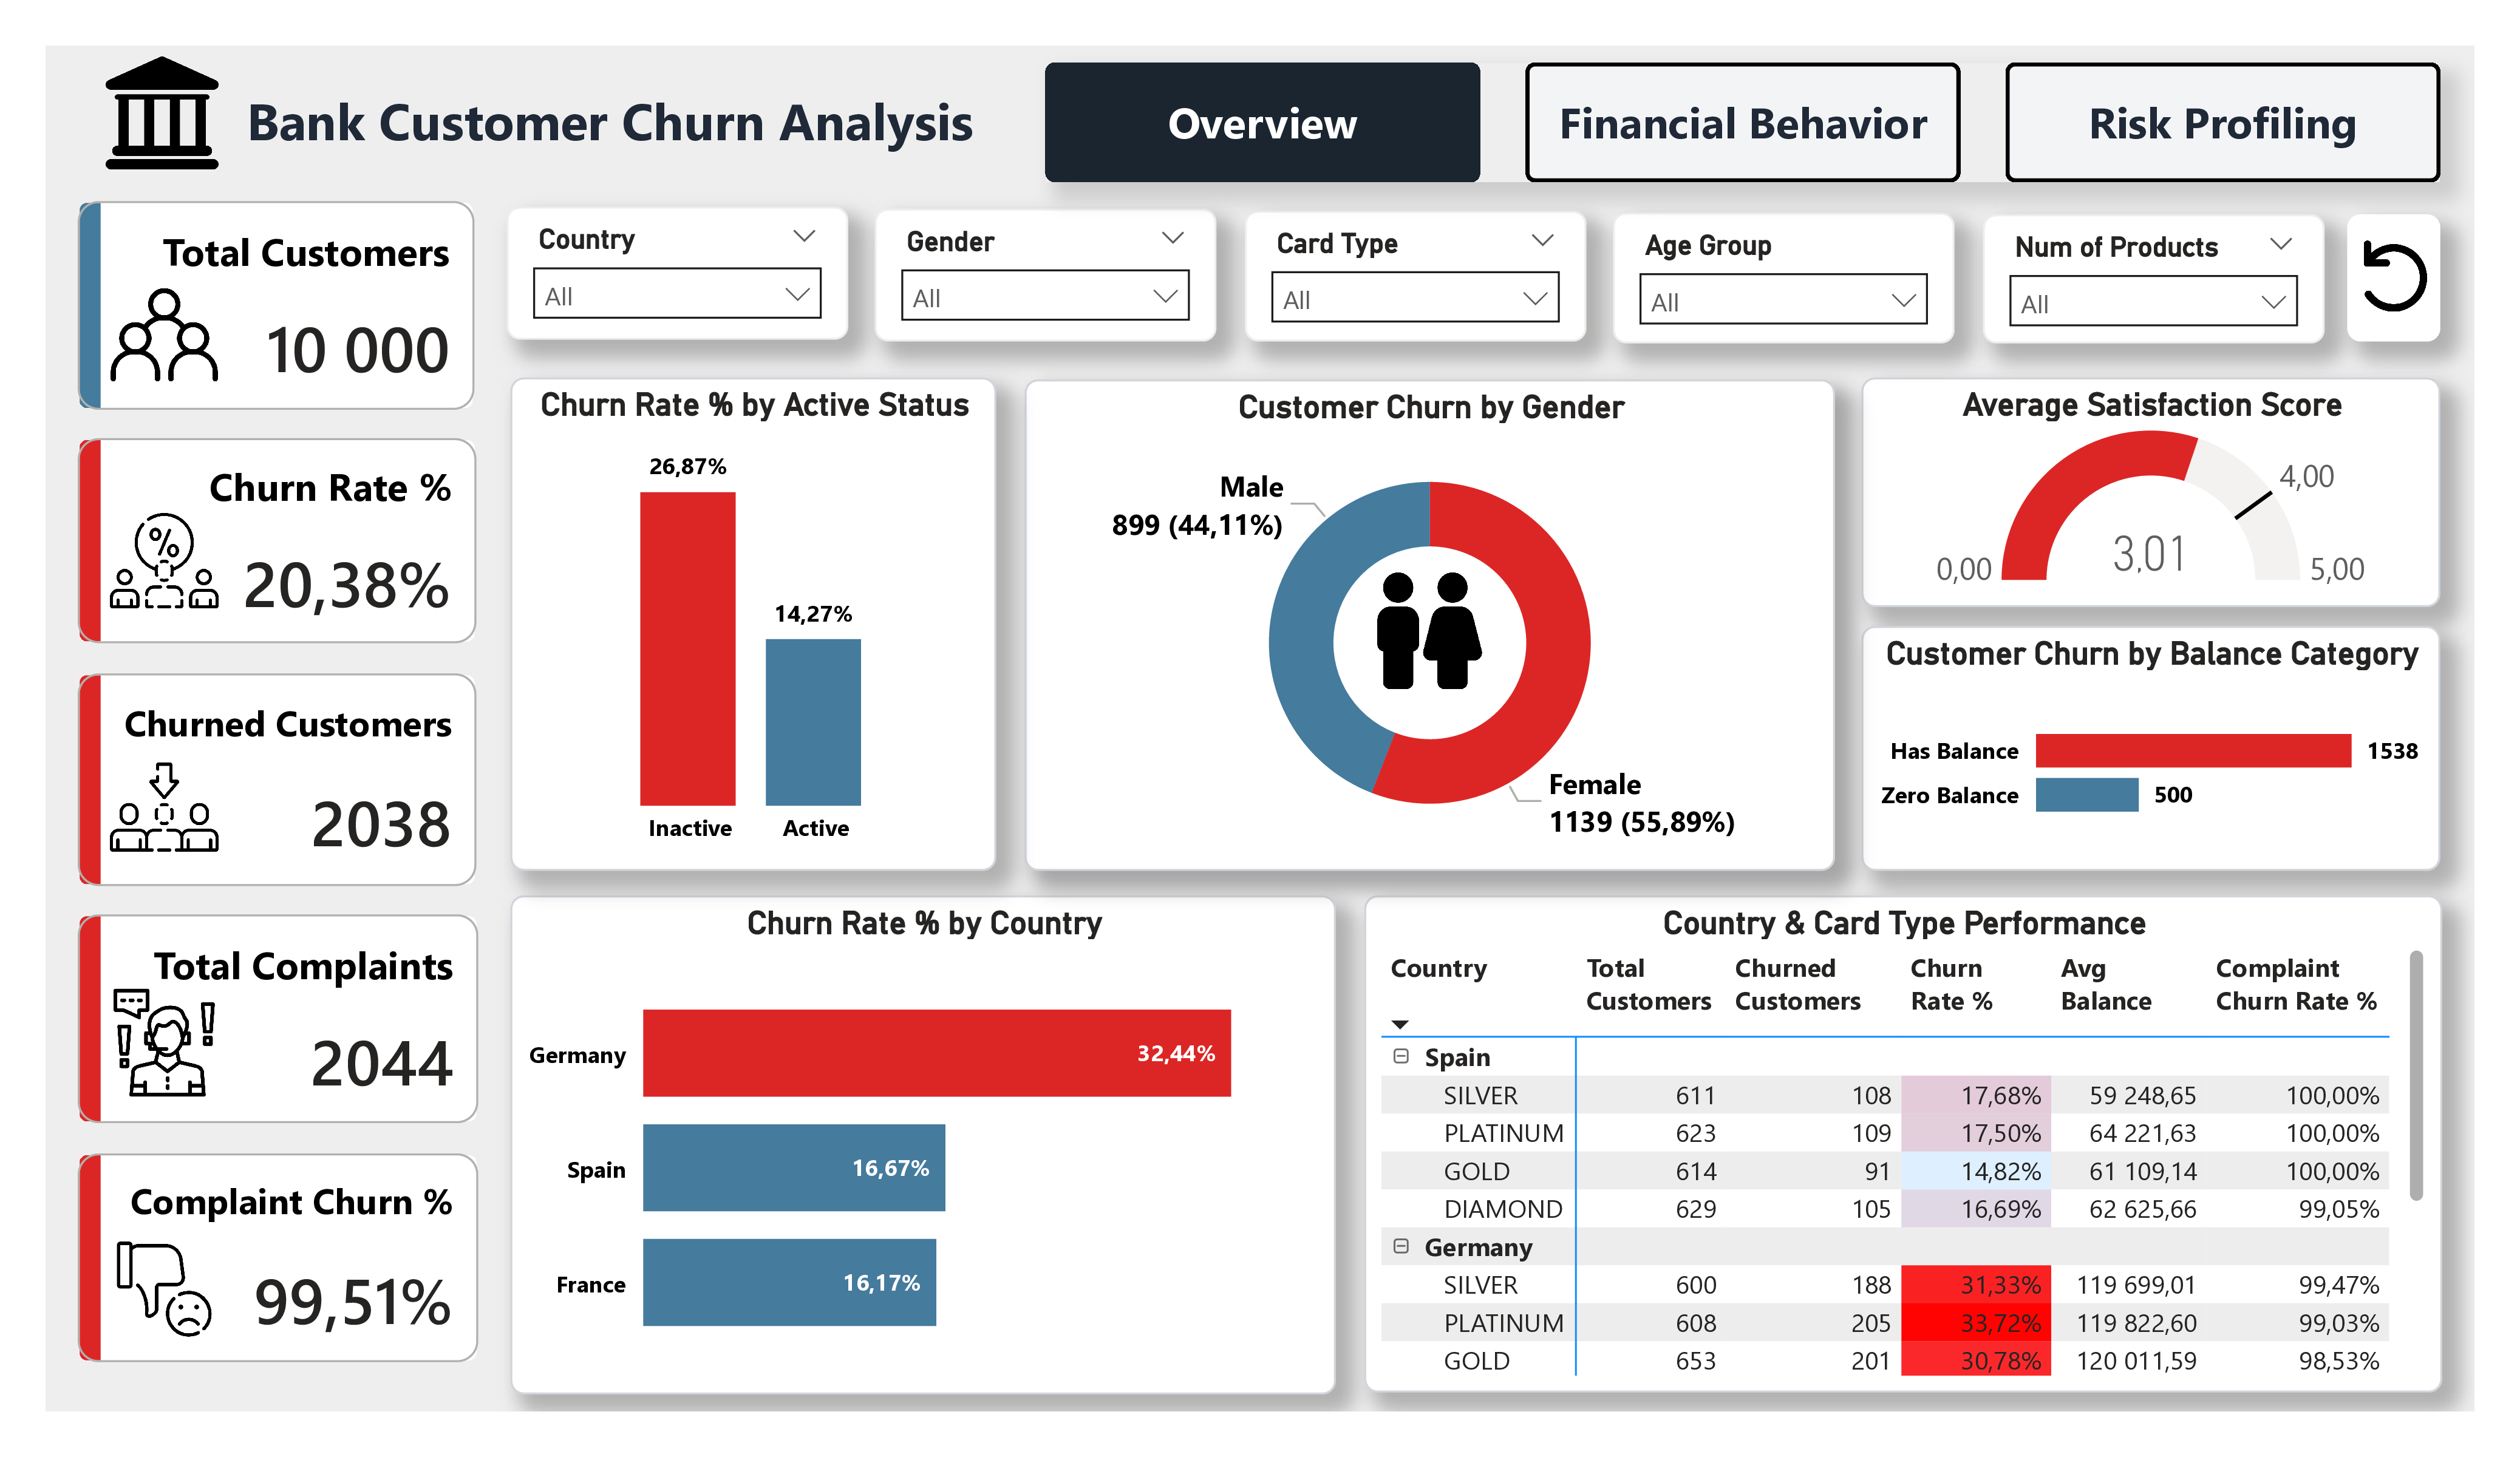

This screenshot's page, from the dashboard's own definition file:
{"tool":"powerbi","page":{"name":"Overview","canvas":[1280,720],"ordinal":0},"visuals":[{"type":"treemap","title":"Customer Churn by Balance Category","fields":{"Values":["Measures (2).Churned Customers"],"Group":["dim_customer.balance_category"]},"box":[263.7,169.8,486.2,260.5],"z":0},{"type":"clusteredBarChart","title":"Churn Rate by Country","fields":{"Category":["dim_geography.country"],"Y":["Measures (2).Churn Rate %"]},"box":[263.7,448.2,486.2,262.6],"z":1000},{"type":"pivotTable","title":"Country & Card Type Performance","fields":{"Rows":["dim_geography.country","dim_cardtype.card_type"],"Values":["Measures (2).Total Customers","Measures (2).Churned Customers","Measures (2).Churn Rate %","Measures (2).Avg Balance"]},"box":[774.5,448.3,488.2,262.2],"z":2000},{"type":"donutChart","title":"Customer Churn by Gender","fields":{"Y":["Measures (2).Churned Customers"],"Category":["dim_customer.gender"]},"box":[776.3,169.8,486.2,260.5],"z":3000},{"type":"slicer","fields":{"Values":["dim_geography.country"]},"box":[263.7,85.4,229.9,69.6],"z":4000},{"type":"slicer","fields":{"Values":["dim_customer.gender"]},"box":[519.9,85,230,70.1],"z":5000},{"type":"slicer","fields":{"Values":["dim_cardtype.card_type"]},"box":[776.3,85.4,229.9,69.6],"z":6000},{"type":"slicer","fields":{"Values":["dim_customer.age_group"]},"box":[1032.6,85.4,229.9,69.6],"z":7000},{"type":"textbox","box":[101.5,15.7,400,55.6],"z":8000},{"type":"image","box":[50.7,648.9,60.4,54.4],"z":9000},{"type":"image","box":[143.8,650.1,60.4,54.4],"z":10000},{"type":"pageNavigator","box":[522.9,9.6,735,62],"z":11000},{"type":"cardVisual","fields":{"Data":["Measures (2).Total Customers"]},"box":[4.4,64.8,242.9,142.6],"z":12000},{"type":"cardVisual","fields":{"Data":["Measures (2).Churn Rate %"]},"box":[5.6,207.4,242.9,142.6],"z":13000},{"type":"cardVisual","fields":{"Data":["Measures (2).Complaint Churn Rate %"]},"box":[4.4,350,244.1,145],"z":14000},{"type":"cardVisual","fields":{"Data":["Avg(fact_churn.satisfaction_score)"]},"box":[3.2,495,244.1,145],"z":15000},{"type":"image","box":[973.9,279.1,89.4,61.6],"z":16000},{"type":"image","box":[20.5,6,81,59.2],"z":17000}]}

Visuals, with their boxes on the page's 1280x720 design canvas (x1, y1, x2, y2). These are canvas units, not pixel positions in the 2520x1457 screenshot, which may show the page scaled, cropped or inside an application window:
"Customer Churn by Balance Category" treemap: (264,170,750,430)
"Churn Rate by Country" clusteredBarChart: (264,448,750,711)
"Country & Card Type Performance" pivotTable: (774,448,1263,710)
"Customer Churn by Gender" donutChart: (776,170,1262,430)
slicer - dim_geography.country: (264,85,494,155)
slicer - dim_customer.gender: (520,85,750,155)
slicer - dim_cardtype.card_type: (776,85,1006,155)
slicer - dim_customer.age_group: (1033,85,1262,155)
textbox: (102,16,502,71)
image: (51,649,111,703)
image: (144,650,204,704)
pageNavigator: (523,10,1258,72)
cardVisual - Measures (2).Total Customers: (4,65,247,207)
cardVisual - Measures (2).Churn Rate %: (6,207,248,350)
cardVisual - Measures (2).Complaint Churn Rate %: (4,350,248,495)
cardVisual - Avg(fact_churn.satisfaction_score): (3,495,247,640)
image: (974,279,1063,341)
image: (20,6,102,65)
